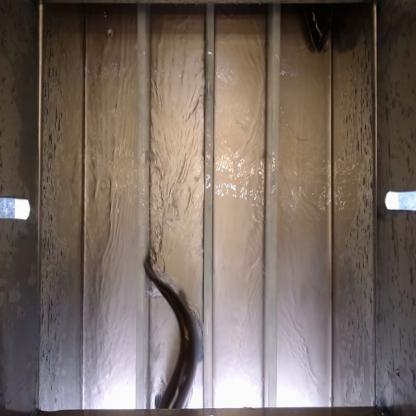pezw: (140, 245, 204, 408)
